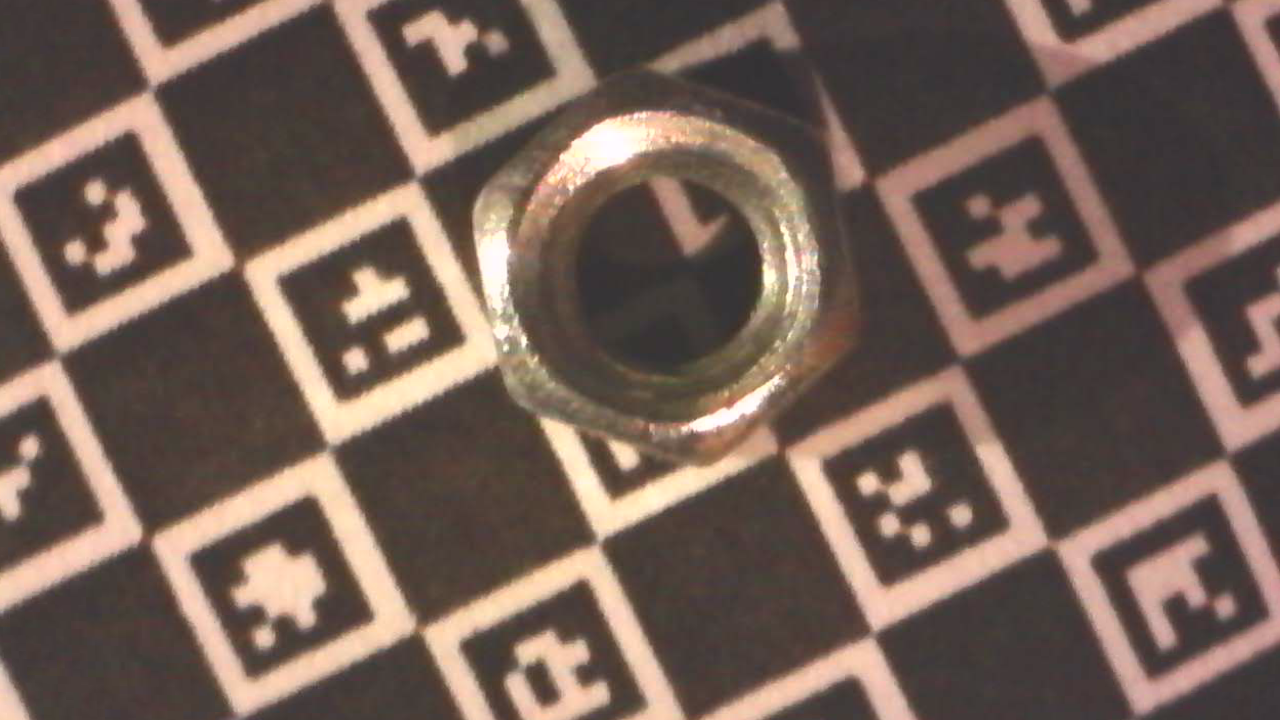Bolt: (471, 64, 859, 468)
